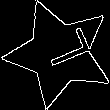L_SW: (29, 29, 89, 77)
